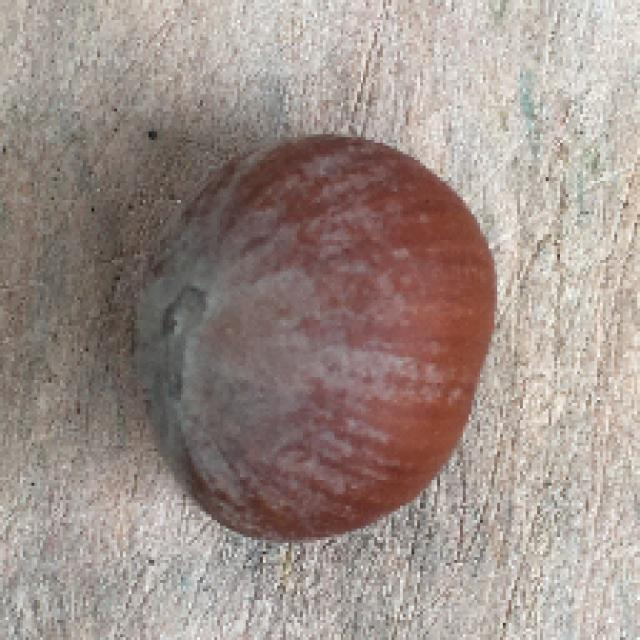qualityHazelnut: (123, 132, 504, 546)
